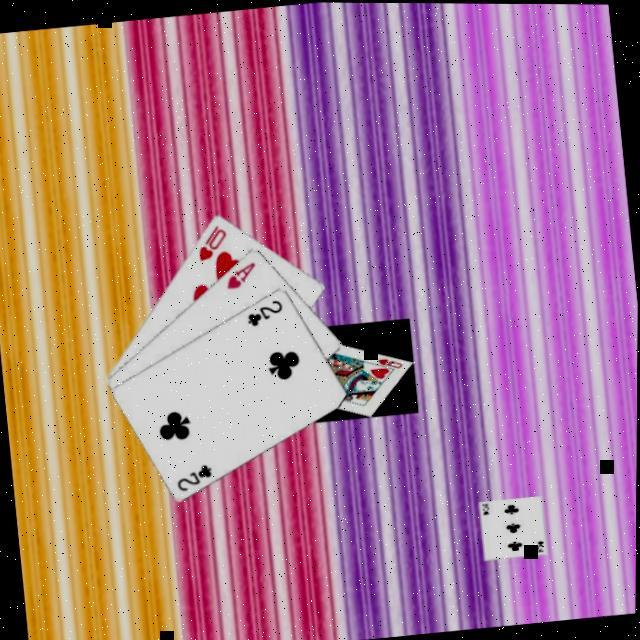10H: (193, 220, 232, 264)
2C: (173, 459, 218, 494), (243, 296, 288, 330)
AH: (222, 257, 262, 293)
